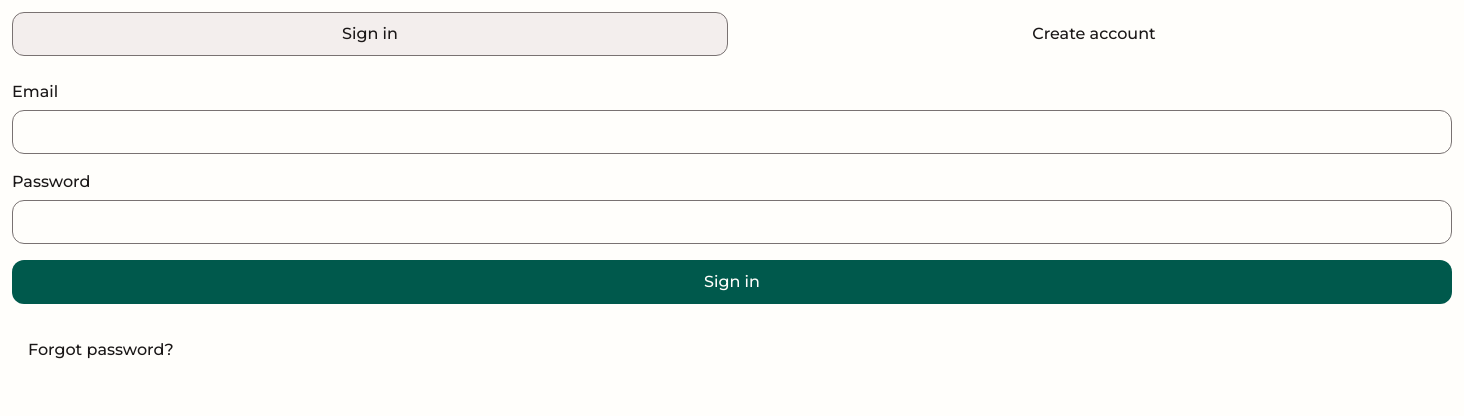
Test: LoginForm › signs in from the browser with the device check's token
In the field labelled "Email": [732, 132] box top-left (12, 110), bottom-right (1452, 154), type "Owner@Example.com"
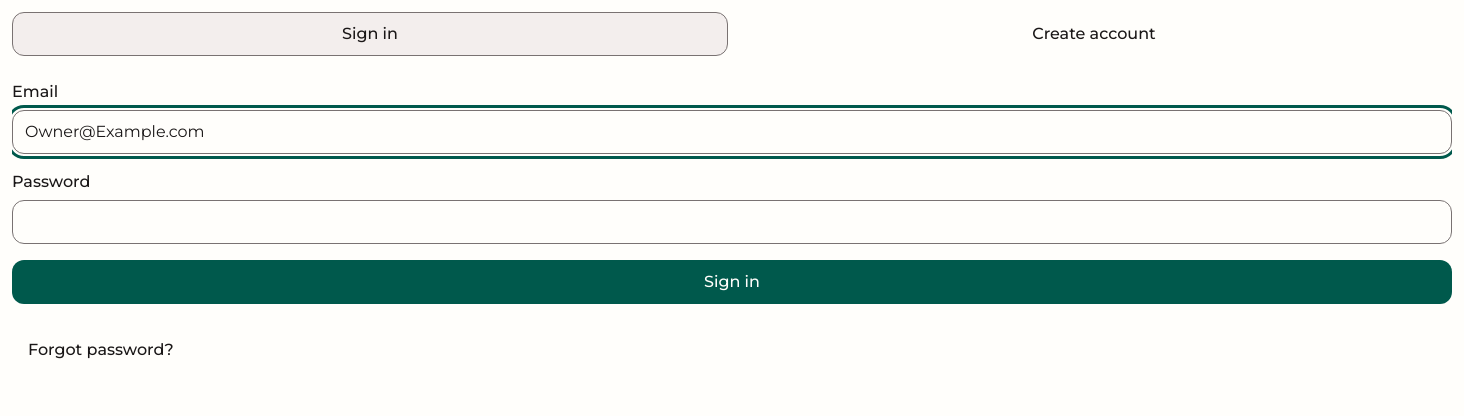
In the password field labelled "Password": [732, 222] box top-left (12, 200), bottom-right (1452, 244), type "correct-horse-battery"
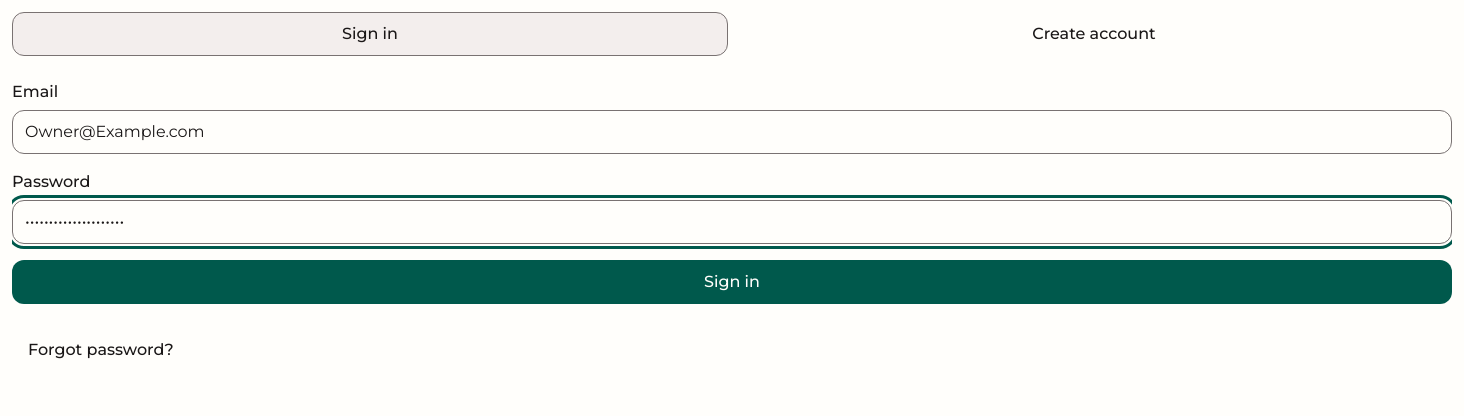
Click the button "Sign in": [732, 282] box top-left (12, 260), bottom-right (1452, 304)
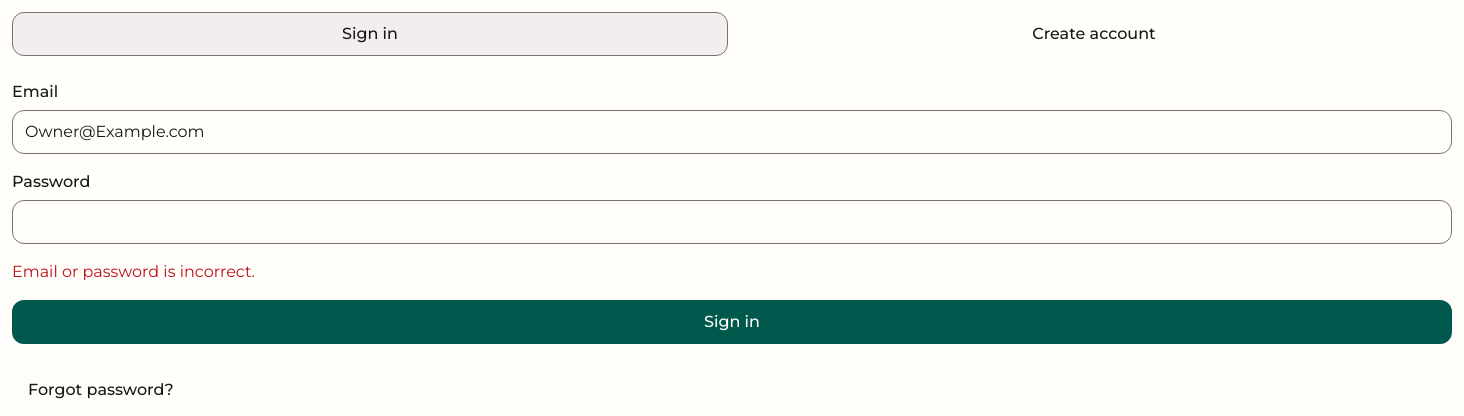
Now the message reads "Email or password is incorrect.", box top-left (12, 262), bottom-right (255, 281)
